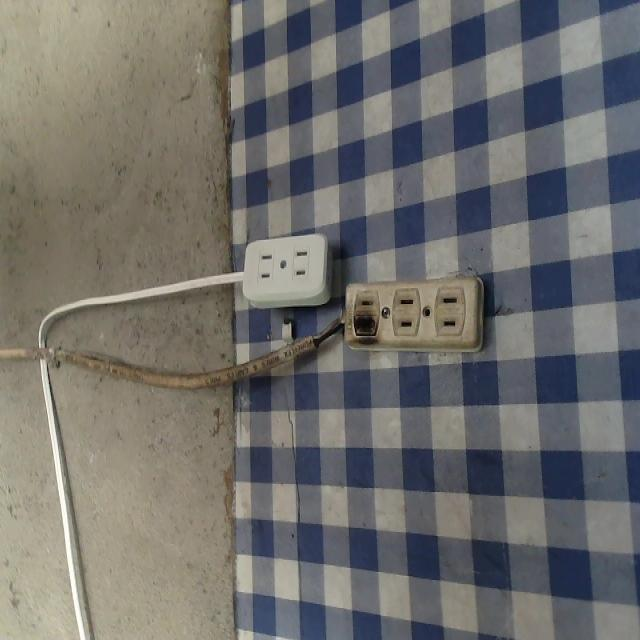-: (342, 307, 381, 353)
